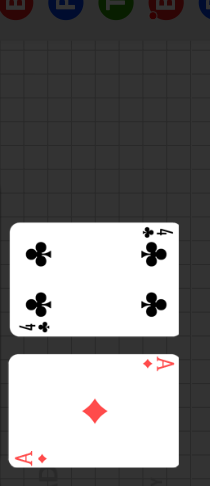4C: (140, 226, 174, 241)
AD: (140, 357, 175, 374)
